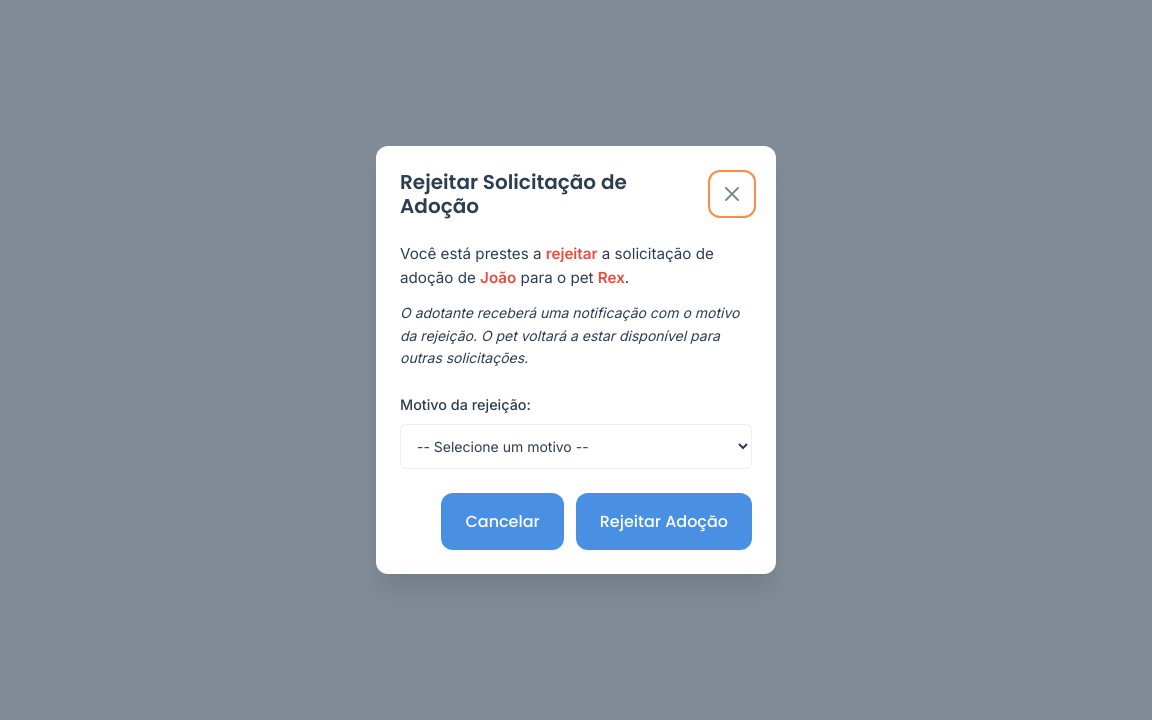
Test: RejectionModal Component › Form Validation › should show error when custom reason is too short
This screenshot has width=1152, height=720.
Select "Outro motivo" in the dropdown showing "Selecione um motivo" at (576, 447), box [400,424,752,469]
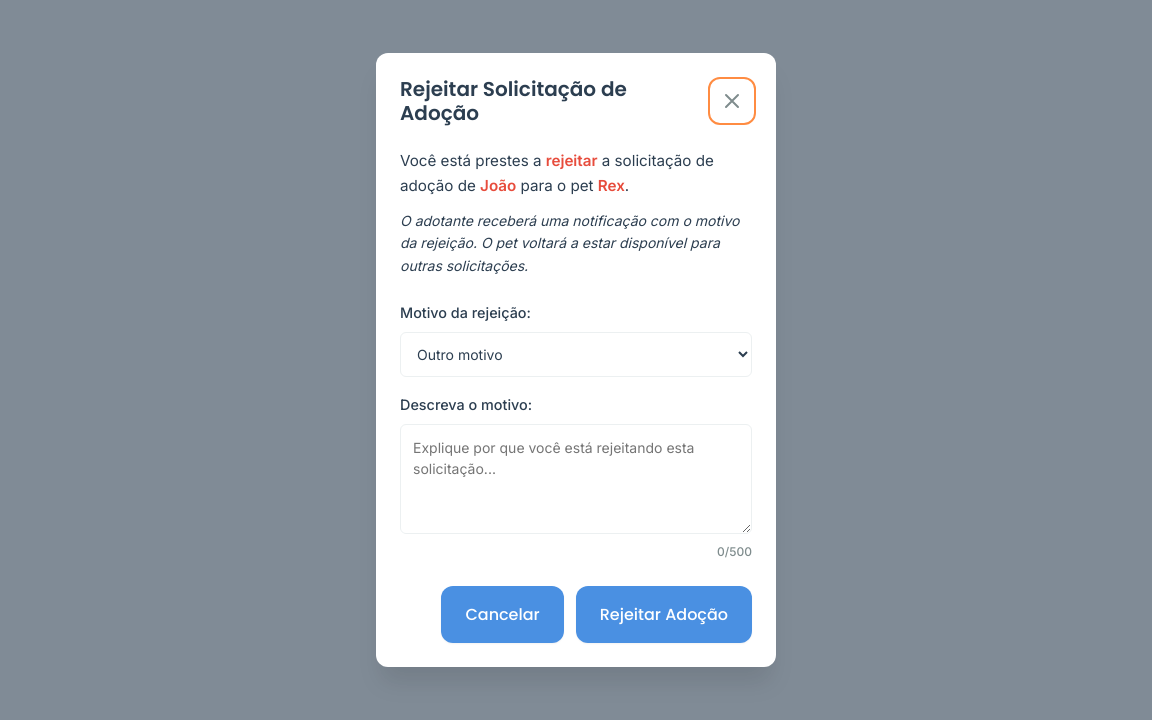
Check: the text box with placeholder "Explique por que você está rejeitando esta solicitação..." is shown
Type "Too short" into the text box with placeholder "Explique por que você está rejeitando esta solicitação..." at (576, 479), box [400,424,752,534]
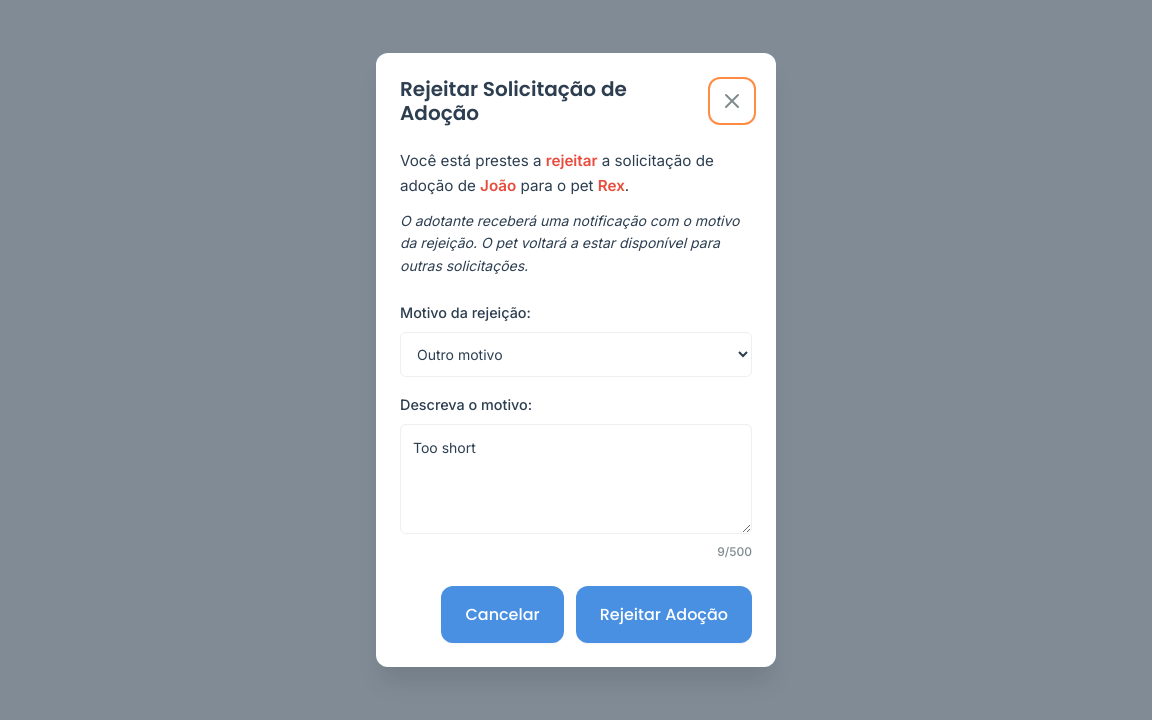
Click the button "Rejeitar Adoção" at (664, 614), box [576,586,752,642]
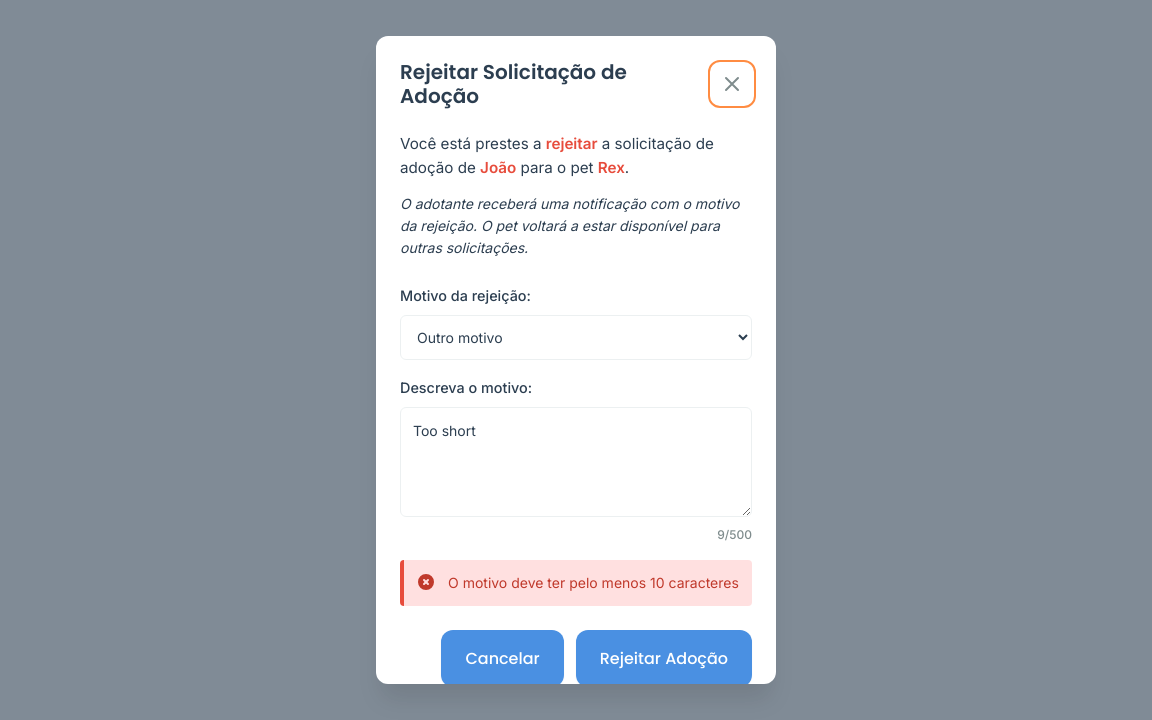
Check: the text "O motivo deve ter pelo menos 10 caracteres" is shown, box [400,560,752,606]
